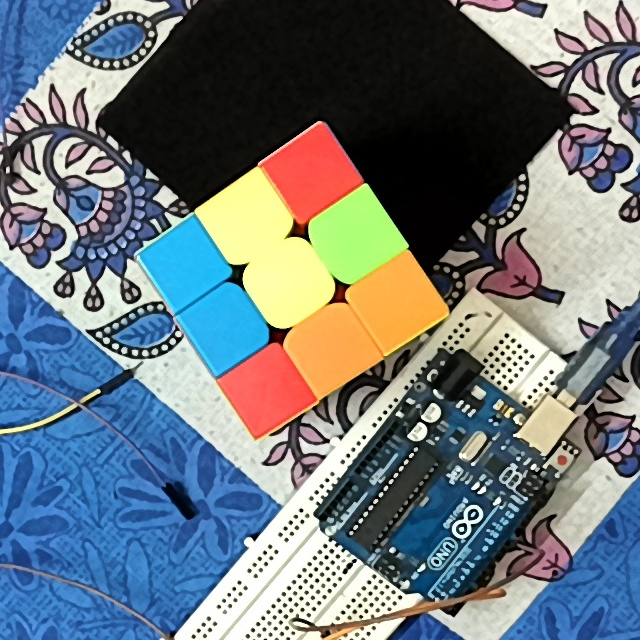tile: (329, 209, 384, 263), (371, 275, 424, 330), (199, 302, 254, 353), (218, 192, 272, 243), (305, 323, 357, 375), (289, 146, 341, 196), (263, 257, 315, 306), (240, 367, 294, 414), (161, 239, 211, 288)
